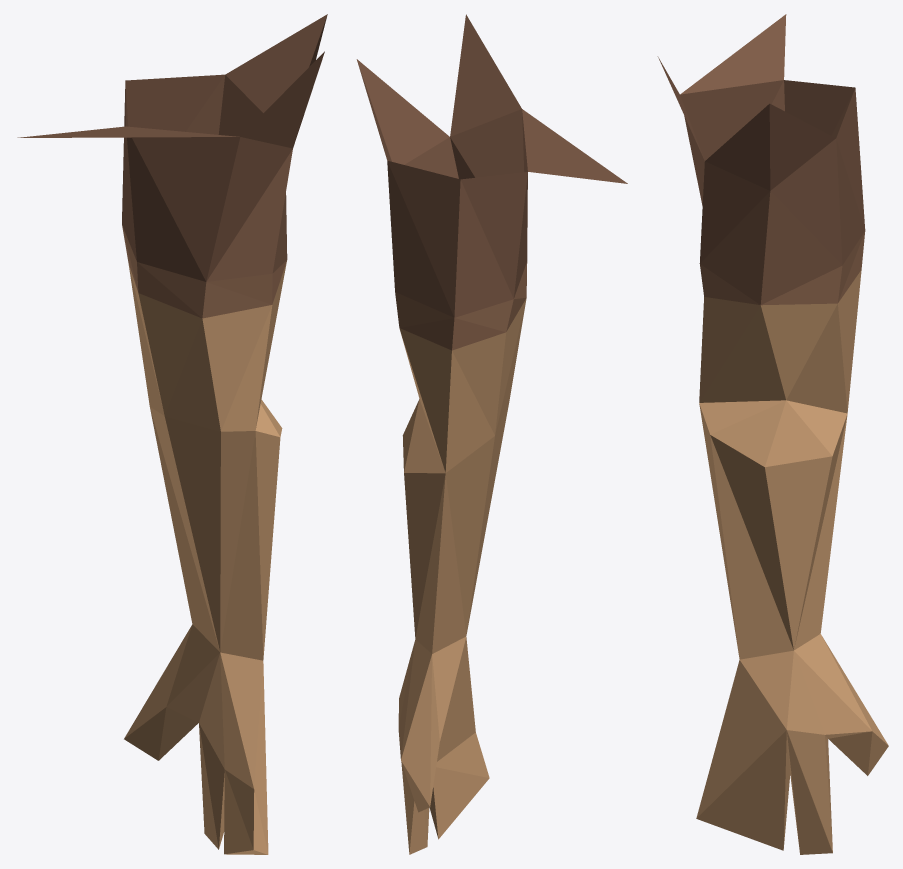
Rendered from ArmR.obj.
3 views of the same model, side by side, from view 1: azimuth 30°, elevation 25°; view 2: azimuth 150°, elevation 25°; view 3: azimuth 270°, elevation 25° (orthographic). The views are drawn at different scales.
Bounding box in the file's own units: 0.3377 × 0.8948 × 0.2307.
Materials: 1 (1 with a texture image).
